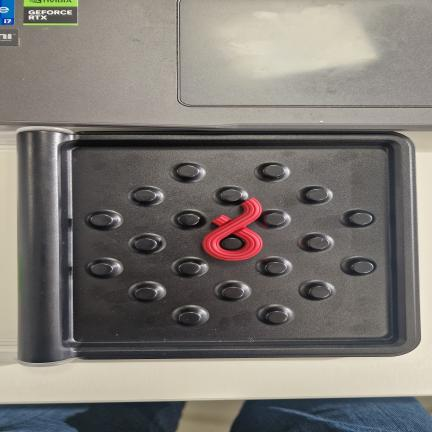J_DarkRed: (203, 198, 262, 260)
board: (18, 131, 419, 365)
hinge: (14, 128, 79, 367)
pin: (90, 262, 113, 276), (134, 287, 158, 300), (221, 236, 243, 250), (179, 311, 201, 325), (266, 310, 288, 324), (134, 189, 157, 202), (350, 212, 373, 225), (307, 237, 330, 250), (135, 238, 158, 251), (178, 262, 201, 275), (351, 261, 374, 274), (177, 165, 199, 178), (306, 188, 328, 201), (220, 189, 242, 202), (178, 213, 200, 226), (264, 213, 286, 226), (265, 261, 287, 274), (309, 285, 331, 298), (222, 286, 244, 299), (90, 214, 113, 226), (263, 164, 284, 177)
